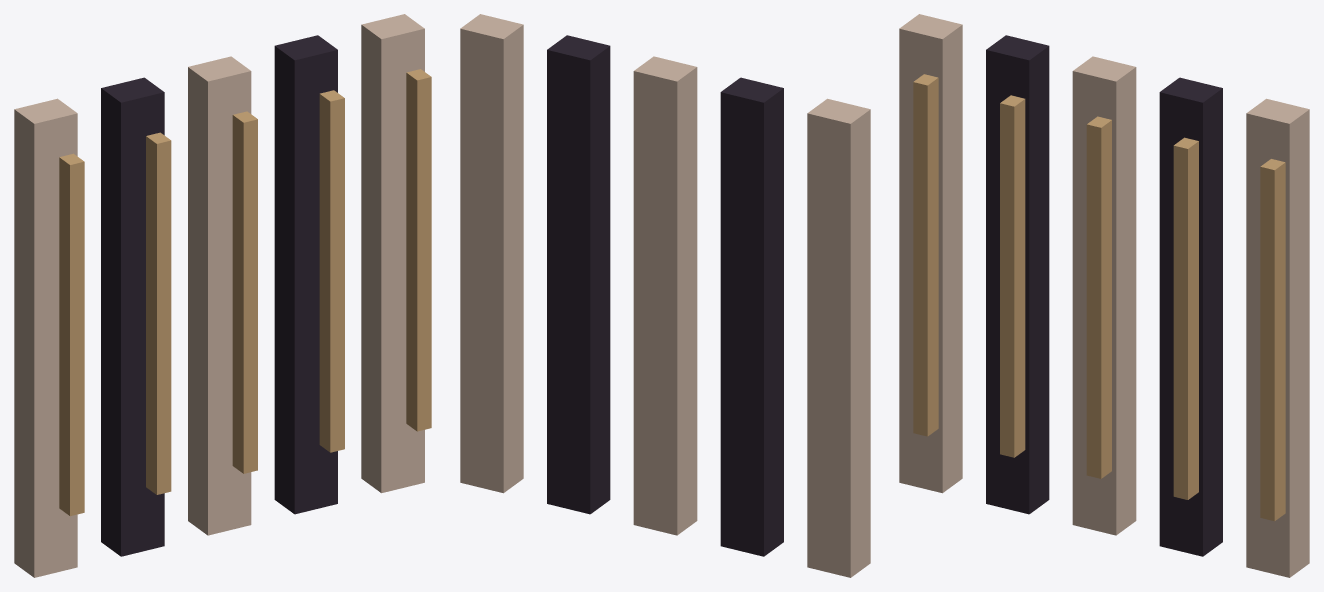
The model's file is TRD-05-01.glb.
3 views of the same model, side by side, from view 1: azimuth 30°, elevation 25°; view 2: azimuth 150°, elevation 25°; view 3: azimuth 330°, elevation 25° (orthographic).
Parts seen in each view (by area): view 1: TRD-05-01; view 2: TRD-05-01; view 3: TRD-05-01.
Part boxes in pixels (x1,y1,x2,y2): TRD-05-01: (14,14,431,577); TRD-05-01: (460,14,870,577); TRD-05-01: (899,14,1309,577).
Size of the model in its own units: 0.675 by 0.75 by 0.0925.
